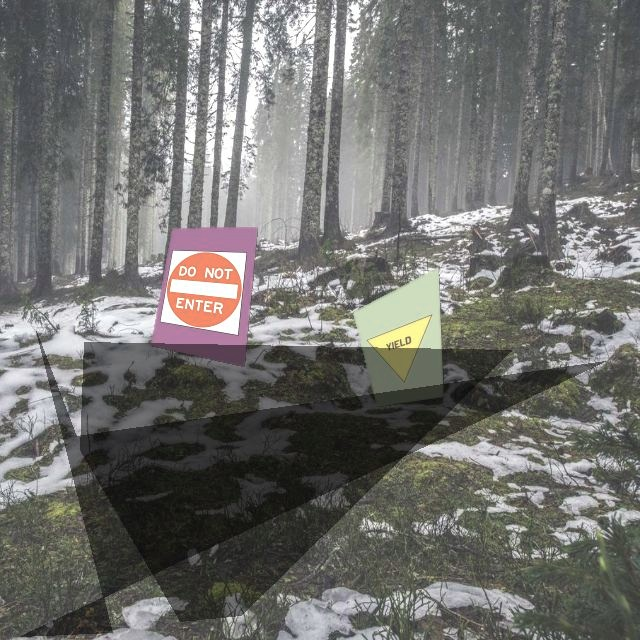DO_NOT_ENTER: (159, 249, 247, 336)
YIELD: (364, 314, 442, 388)
